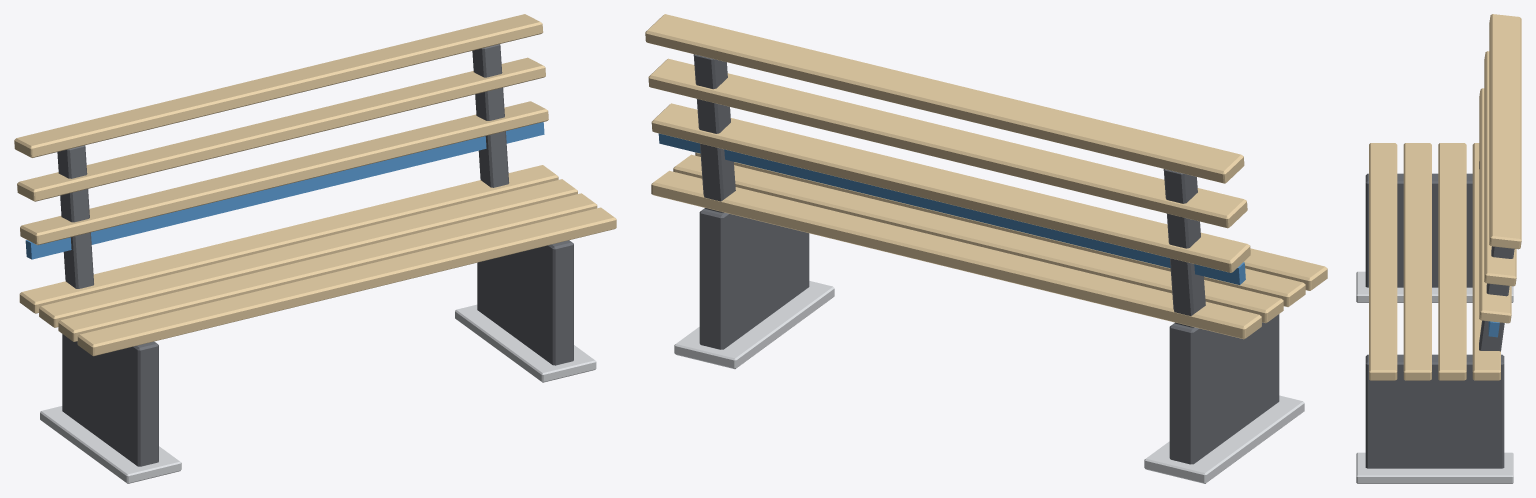
The model's file is public-swimming-baths-and-poolside-poolside-bench-dd3c4911__35255.glb.
3 renders of one model, left to right at view 1: azimuth 30°, elevation 25°; view 2: azimuth 150°, elevation 25°; view 3: azimuth 270°, elevation 25°, orthographic. The views are drawn at different scales.
Parts seen in each view (by area): view 1: poolside-bench; view 2: poolside-bench; view 3: poolside-bench.
Part boxes in pixels (x1=…): poolside-bench: x1=14, y1=14, x2=616, y2=483; poolside-bench: x1=645, y1=14, x2=1327, y2=483; poolside-bench: x1=1356, y1=14, x2=1521, y2=483.
Bounding box in the file's own units: 1.72 × 0.9011 × 0.5252.
